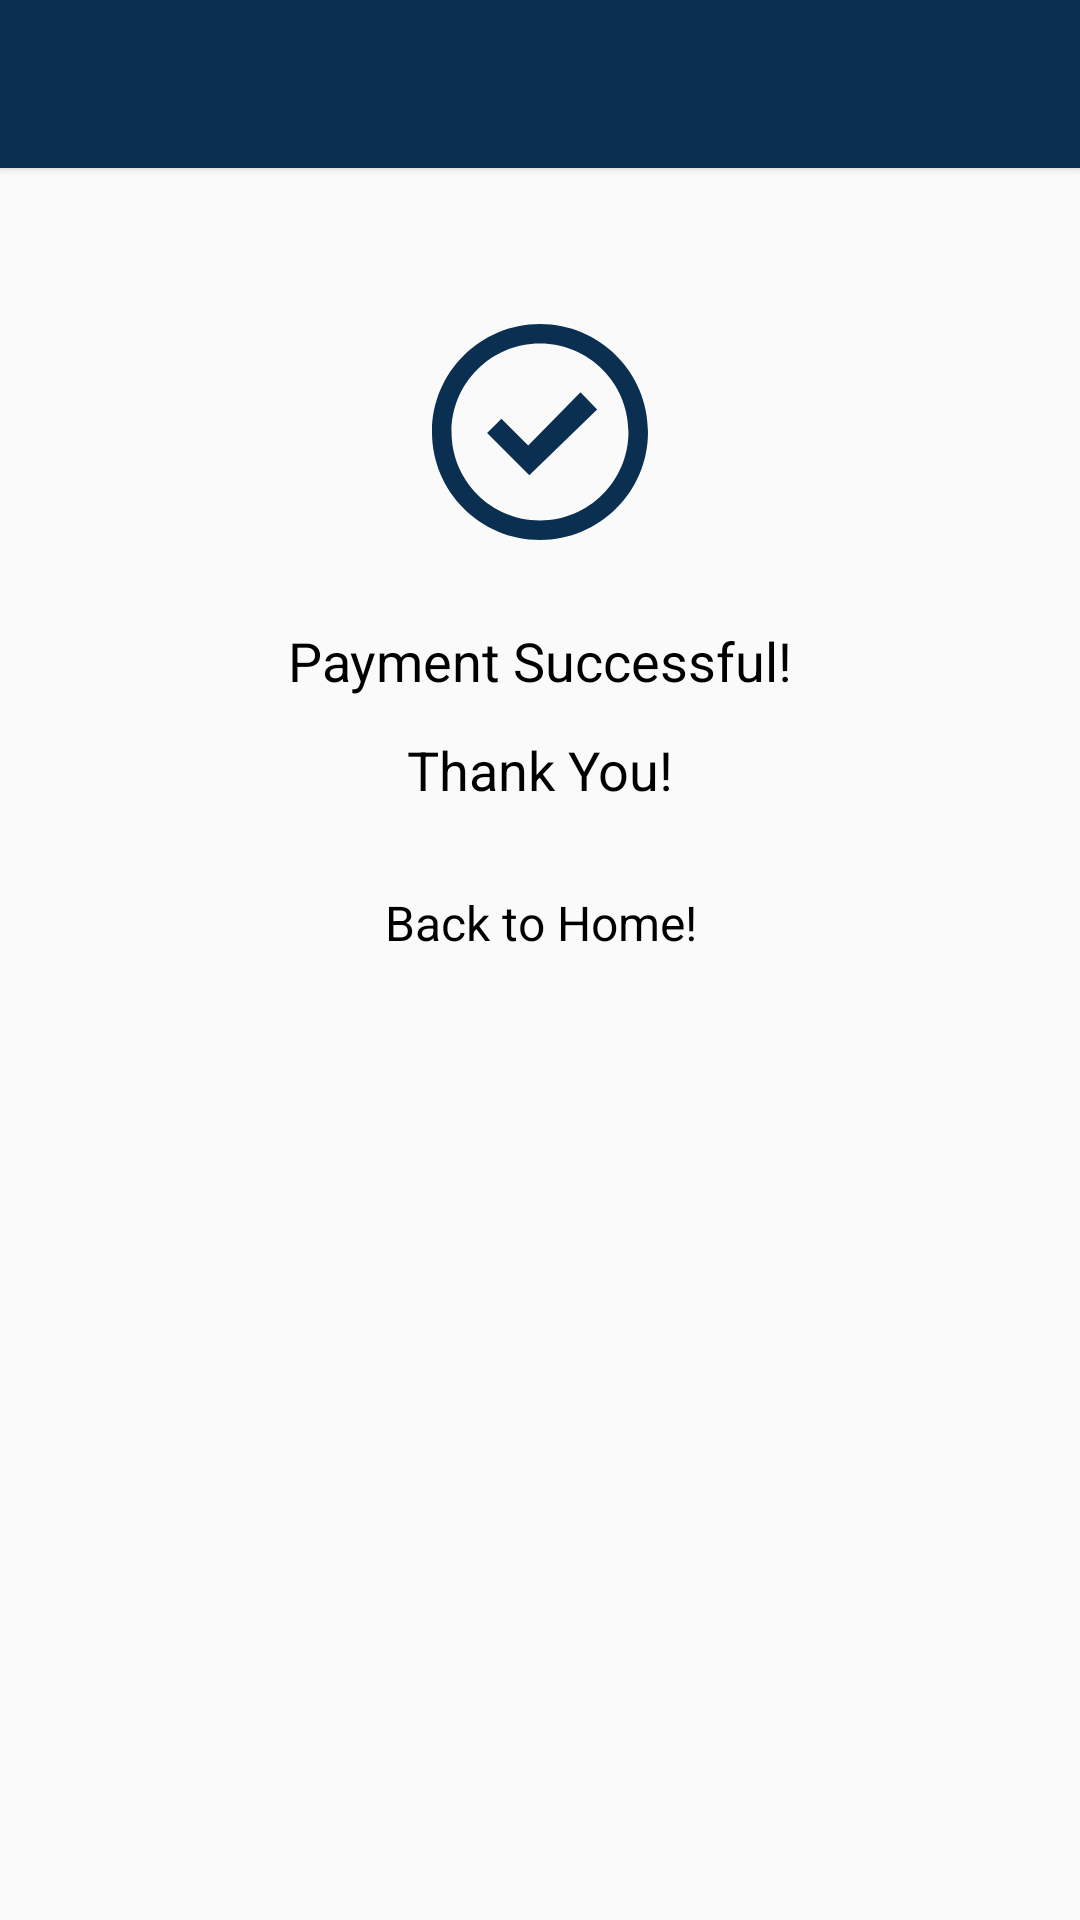

Named icons in this screenshot (1080×1920) and their bounding boxes, (x1, y1, x2, y2):
done: (432, 324, 648, 540)
